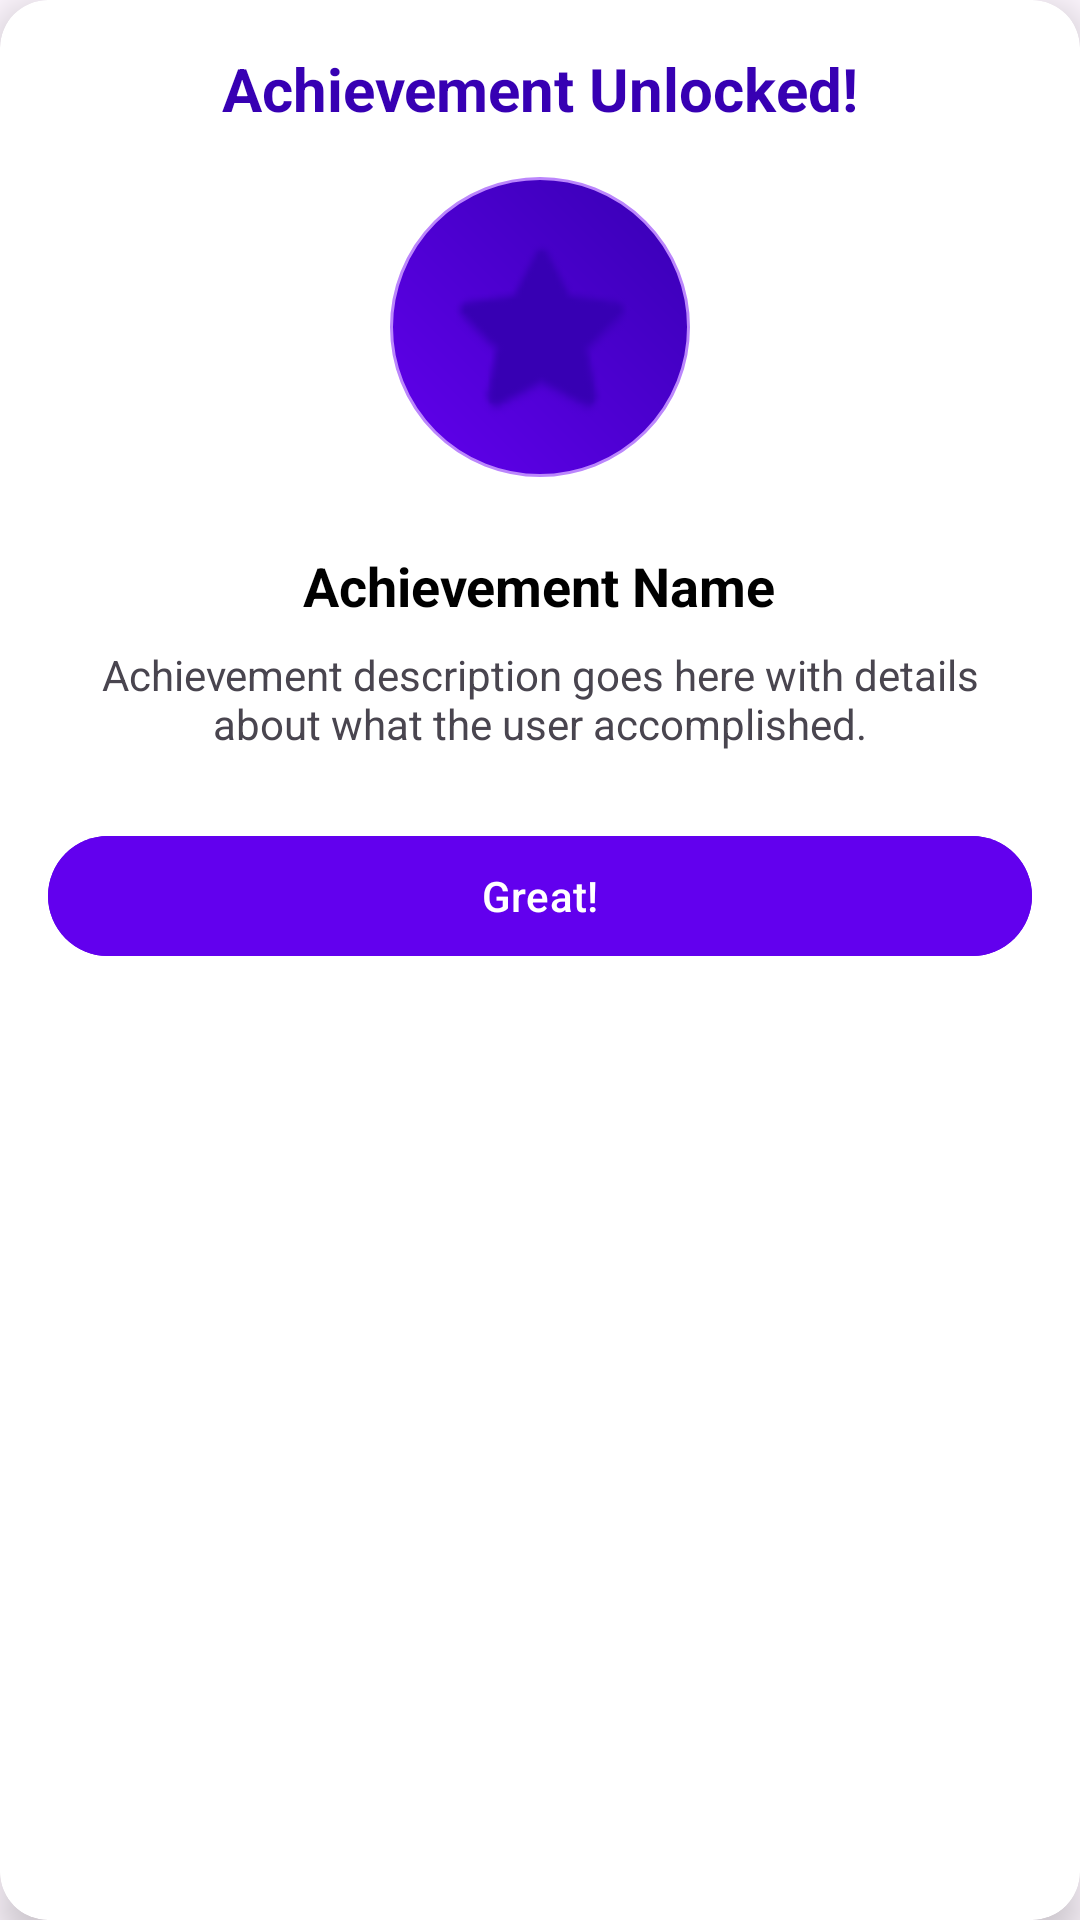

Icons on this 1080 x 1920 Android screen, each with its box as (x1, y1, x2, y2):
star on: (390, 177, 690, 477)
